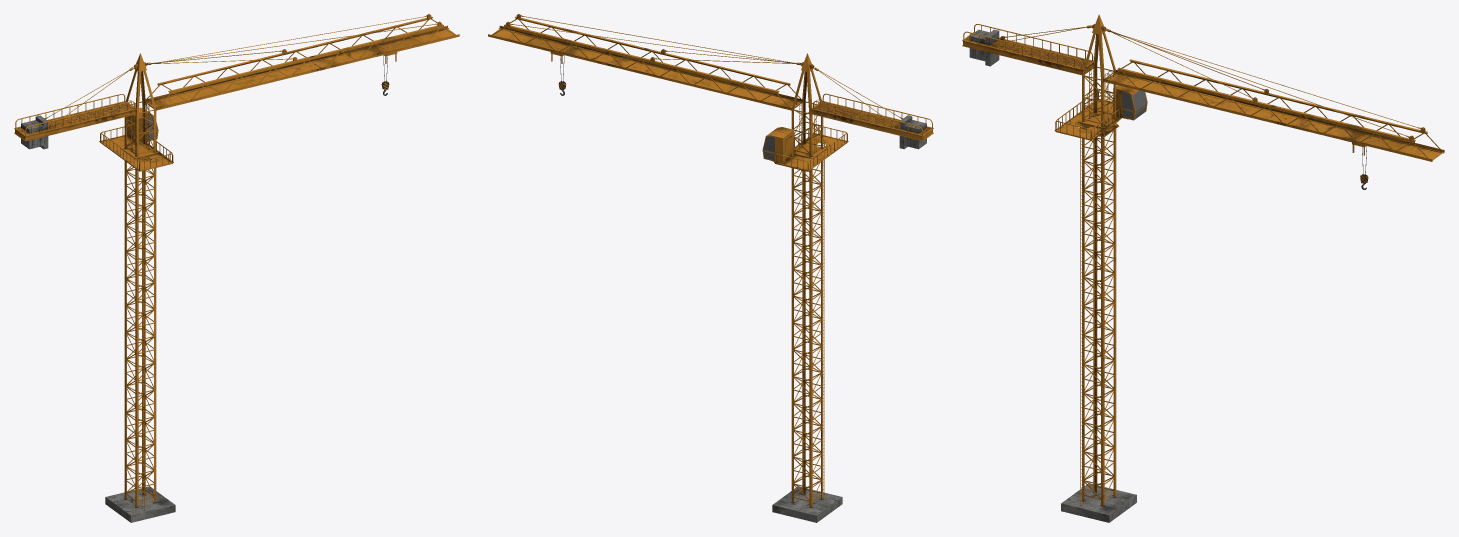
File: tower_crane.glb
3 views of the same model, side by side, from view 1: azimuth 30°, elevation 25°; view 2: azimuth 150°, elevation 25°; view 3: azimuth 330°, elevation 25° (orthographic). The views are drawn at different scales.
Parts seen in each view (by area): view 1: Cube.052_UV_0, Cube.060_CONCRETE_0, Cube.056_frame_0; view 2: Cube.052_UV_0, Cube.060_CONCRETE_0, Cube.056_frame_0; view 3: Cube.052_UV_0, Cube.060_CONCRETE_0, Cube.056_frame_0, Slice.005_GLASS_0.
Part boxes in pixels (<box>): Cube.052_UV_0: <box>14,14,459,510</box>; Cube.060_CONCRETE_0: <box>21,115,175,522</box>; Cube.056_frame_0: <box>16,101,134,134</box>; Cube.052_UV_0: <box>488,14,933,507</box>; Cube.060_CONCRETE_0: <box>772,115,926,522</box>; Cube.056_frame_0: <box>814,101,931,134</box>; Cube.052_UV_0: <box>962,14,1444,506</box>; Cube.060_CONCRETE_0: <box>969,29,1136,522</box>; Cube.056_frame_0: <box>965,36,1092,68</box>; Slice.005_GLASS_0: <box>1122,90,1146,119</box>.
Size of the model in its own units: 51.5 by 51.61 by 8.28.
Materials: 7 (7 with a texture image).
